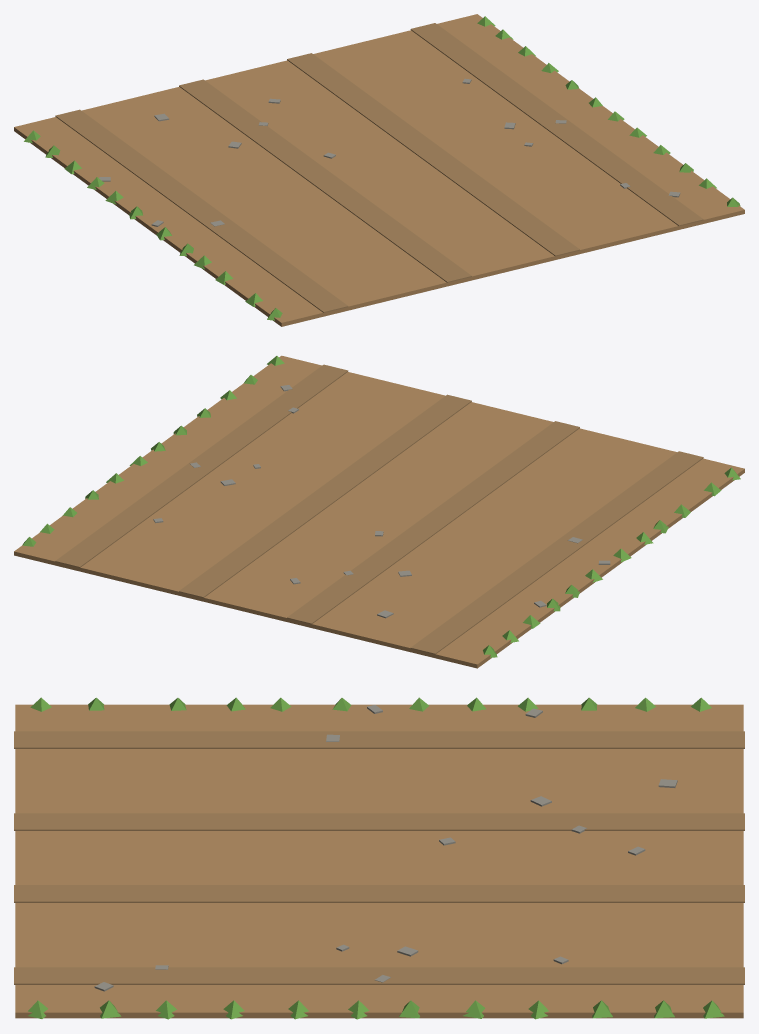
Rendered from road_dirt_twoway_straight.glb.
3 renders of one model, top to bottom at view 1: azimuth 30°, elevation 25°; view 2: azimuth 150°, elevation 25°; view 3: azimuth 270°, elevation 25°, orthographic. The views are drawn at different scales.
Parts seen in each view (by area): view 1: road_dirt_twoway_straight.001; view 2: road_dirt_twoway_straight.001; view 3: road_dirt_twoway_straight.001.
Boxes of the visible parts, x1,y1,x2,y2 form: road_dirt_twoway_straight.001: (14, 14, 744, 326); road_dirt_twoway_straight.001: (14, 355, 744, 668); road_dirt_twoway_straight.001: (14, 697, 744, 1019).
Bounding box in the file's own units: 6.14 × 0.14 × 6.02.
Materials: 1 (1 with a texture image).
